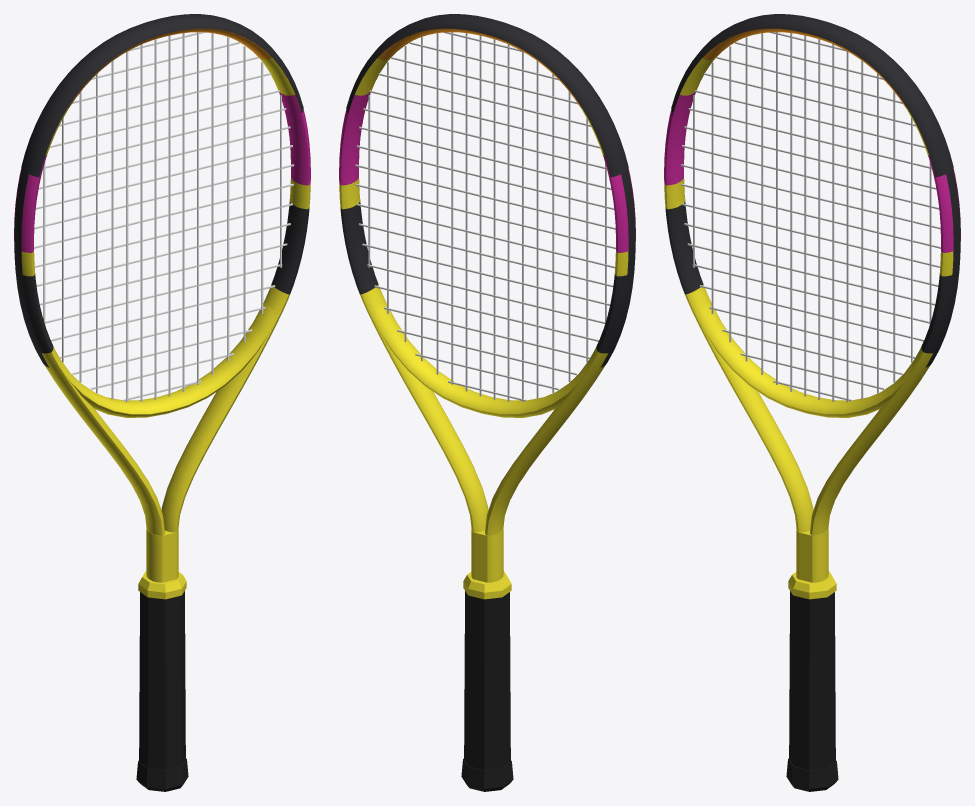
File: babolat-boost-aero-rafa.glb
The picture shows the model from 3 angles, left to right: view 1: azimuth 30°, elevation 25°; view 2: azimuth 150°, elevation 25°; view 3: azimuth 330°, elevation 25°; orthographic projection.
Visible parts, largest first — view 1: frame, strings_mains, strings_crosses, grip, bumper, grommets, butt_cap, collar; view 2: frame, strings_mains, strings_crosses, grip, bumper, grommets, butt_cap, collar; view 3: frame, strings_mains, strings_crosses, grip, bumper, grommets, butt_cap, collar.
Part boxes in pixels (x1,y1,x2,y2): frame: (14, 28, 310, 582); strings_mains: (43, 32, 281, 402); strings_crosses: (34, 32, 294, 401); grip: (139, 591, 185, 770); bumper: (21, 14, 303, 177); grommets: (14, 169, 48, 367); butt_cap: (136, 758, 188, 791); collar: (138, 571, 186, 599); frame: (339, 28, 635, 582); strings_mains: (368, 32, 606, 401); strings_crosses: (355, 32, 615, 401); grip: (464, 591, 510, 770); bumper: (346, 14, 628, 177); grommets: (601, 169, 635, 367); butt_cap: (461, 758, 513, 791); collar: (463, 571, 511, 599); frame: (664, 28, 960, 582); strings_mains: (693, 32, 931, 402); strings_crosses: (680, 32, 940, 401); grip: (789, 591, 835, 770); bumper: (671, 14, 953, 177); grommets: (926, 169, 960, 367); butt_cap: (786, 758, 838, 791); collar: (788, 571, 836, 599).
Bounding box in the file's own units: 0.2742 × 0.6861 × 0.0396.
